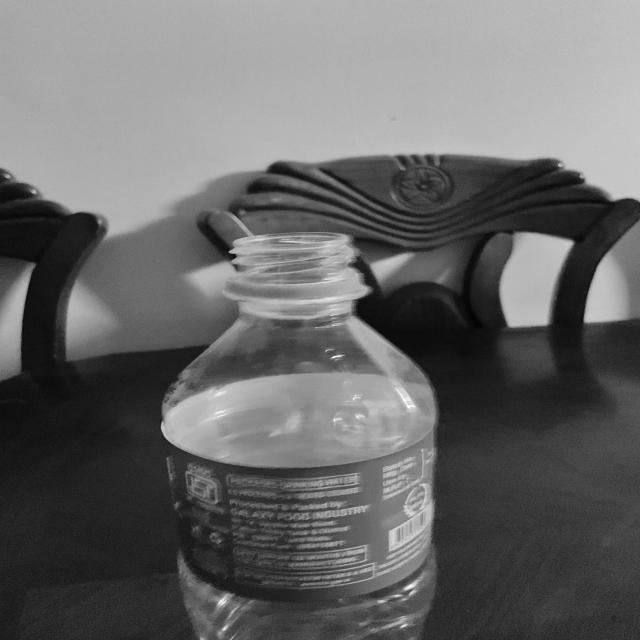open-cap: (228, 229, 365, 307)
